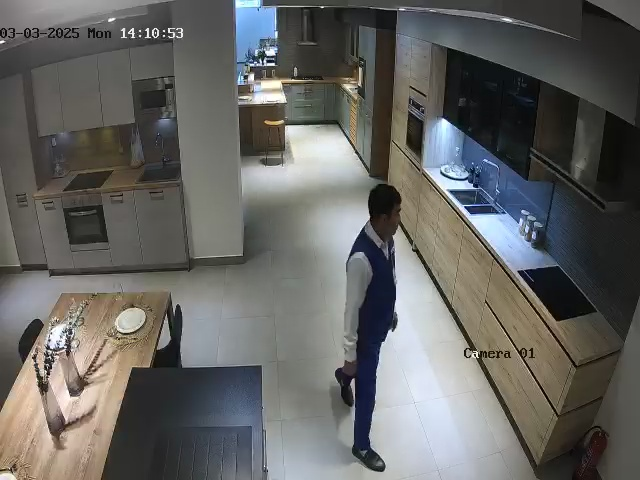employee: (334, 183, 402, 472)
